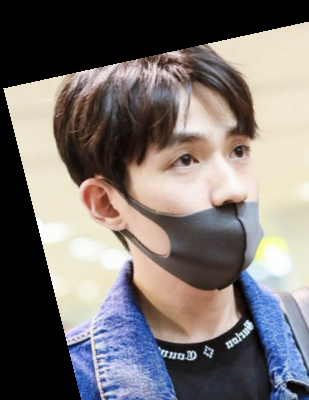mask_weared_incorrect: (46, 46, 291, 291)
